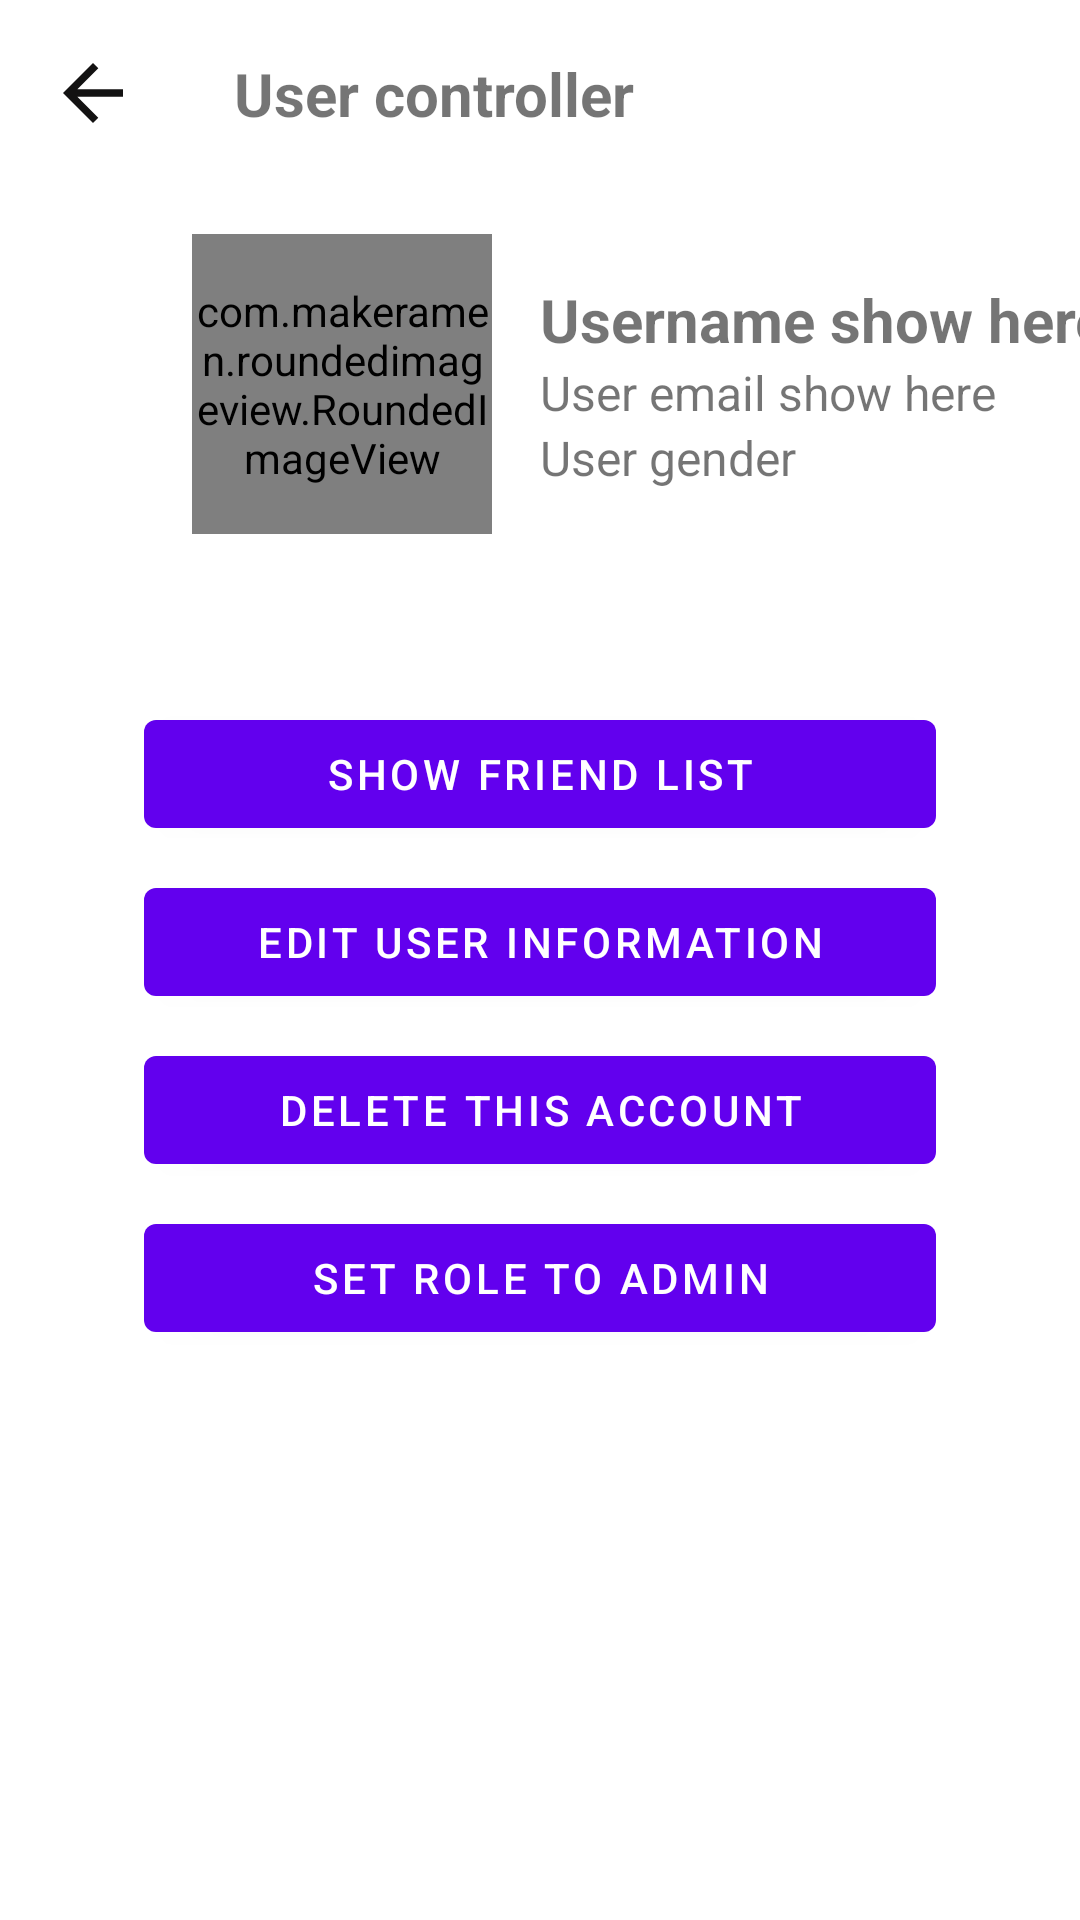

Icons on this 1080*1920 Android screen, each with the point to tap as (x,y):
back: (93,93)
